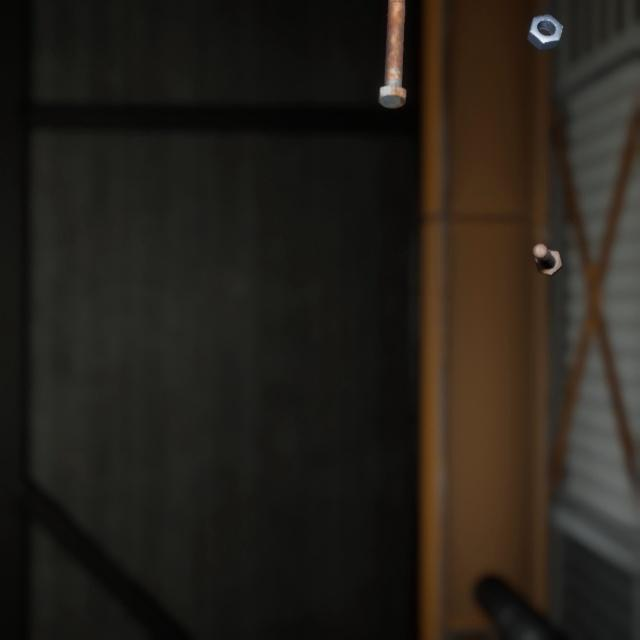bolt: (373, 0, 410, 104), (528, 222, 566, 264), (99, 613, 135, 640)
nut: (522, 2, 567, 46)
